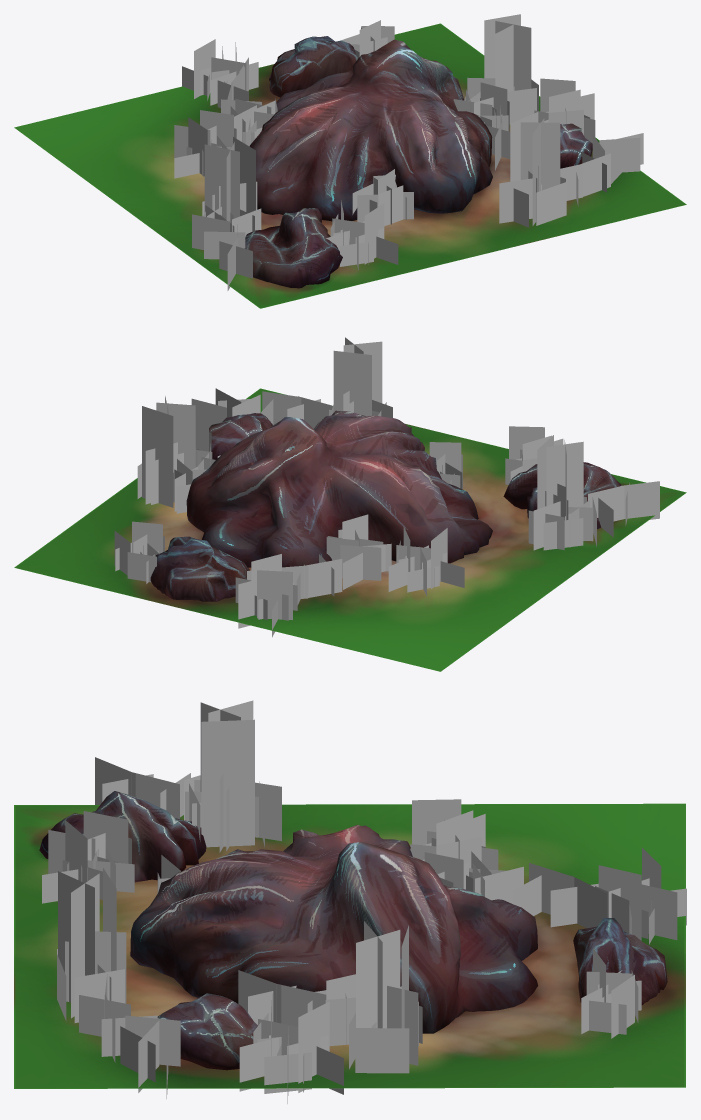
File: zalejametall 1.fbx
The picture shows the model from 3 angles, top to bottom: view 1: azimuth 30°, elevation 25°; view 2: azimuth 150°, elevation 25°; view 3: azimuth 270°, elevation 25°; orthographic projection. The views are drawn at different scales.
Visible parts, largest first — view 1: metall; view 2: metall; view 3: metall.
Boxes of the visible parts, x1=… form: metall: x1=14, y1=14, x2=686, y2=308; metall: x1=14, y1=337, x2=686, y2=671; metall: x1=14, y1=700, x2=686, y2=1103.
Bounding box in the file's own units: 20.31 × 4.96 × 19.64.
